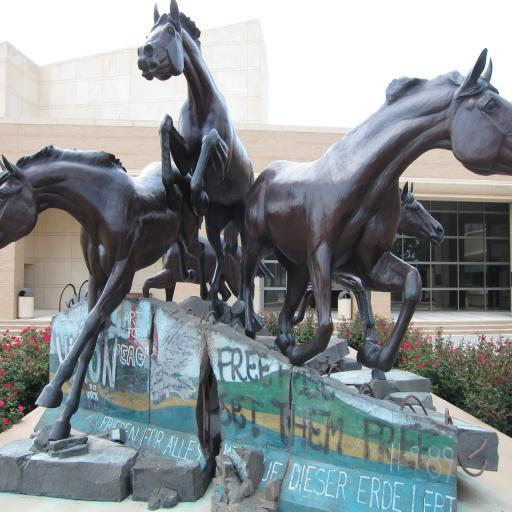horse: (241, 44, 512, 367), (0, 144, 210, 442), (136, 0, 256, 321), (290, 178, 446, 344), (142, 234, 275, 304)
